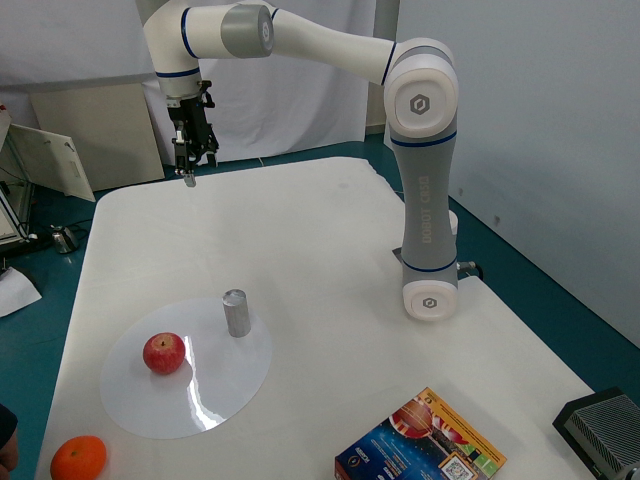apple: (138, 326, 192, 379)
metalROD: (217, 283, 253, 343)
